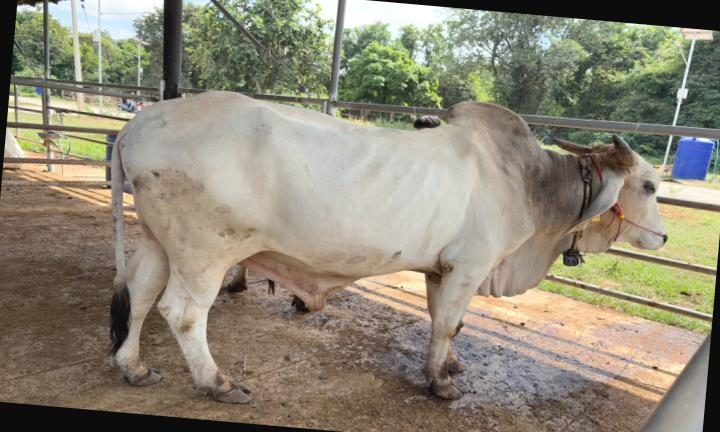Brahman: (111, 91, 666, 402)
